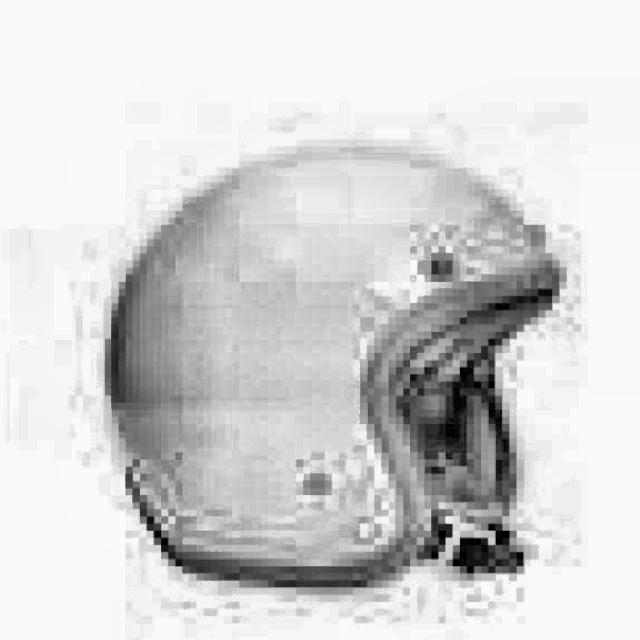Helmet: (93, 129, 566, 588)
